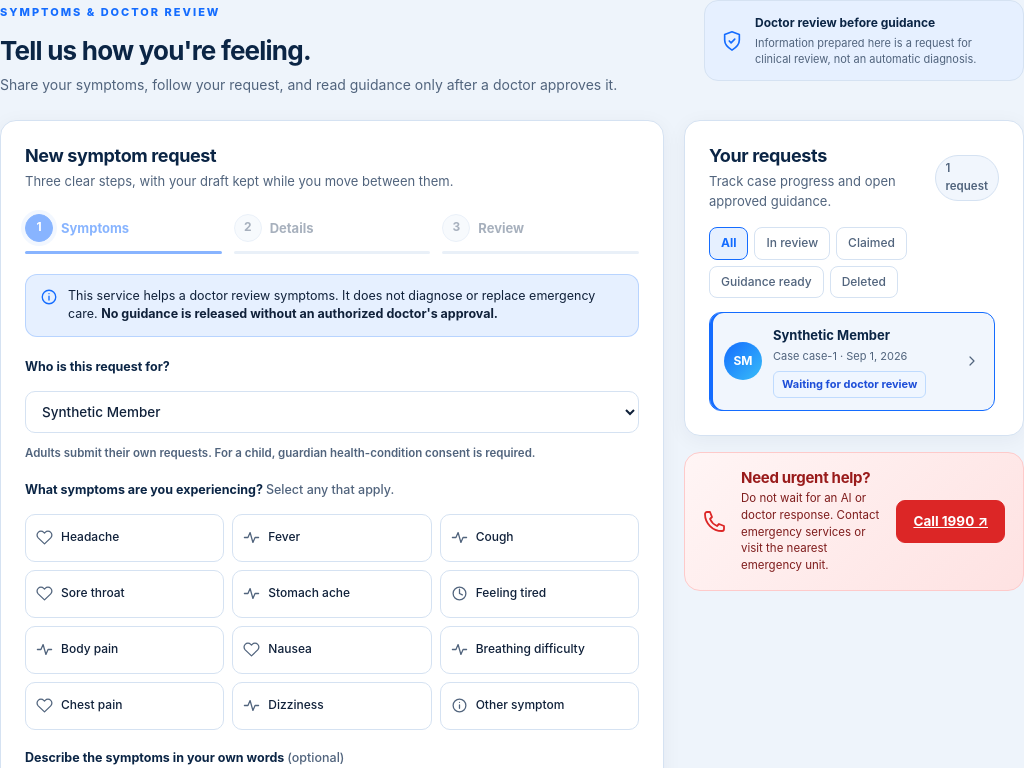
Test case: TriagePage › never renders internal doctor notes in the patient doctor-response card
This screenshot has width=1024, height=768.
Click the button that starts with "Synthetic Member". click: click(852, 361)
box: [709,312,995,410]
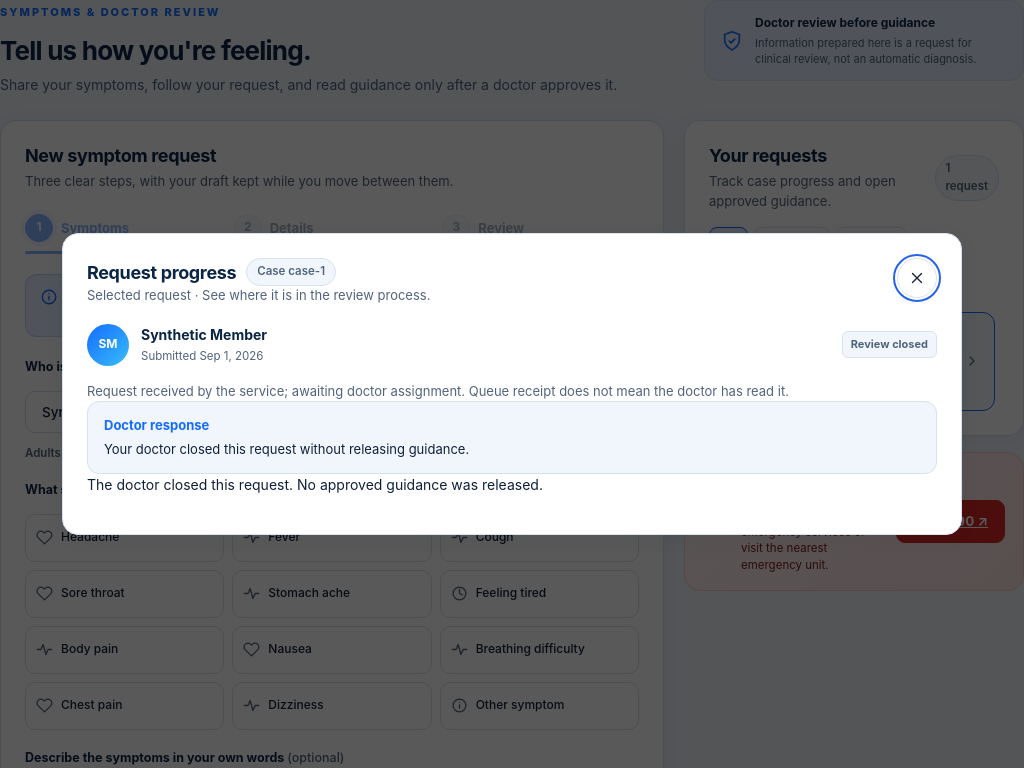
Check: the text "Doctor response" is shown, box [104,417,209,433]
